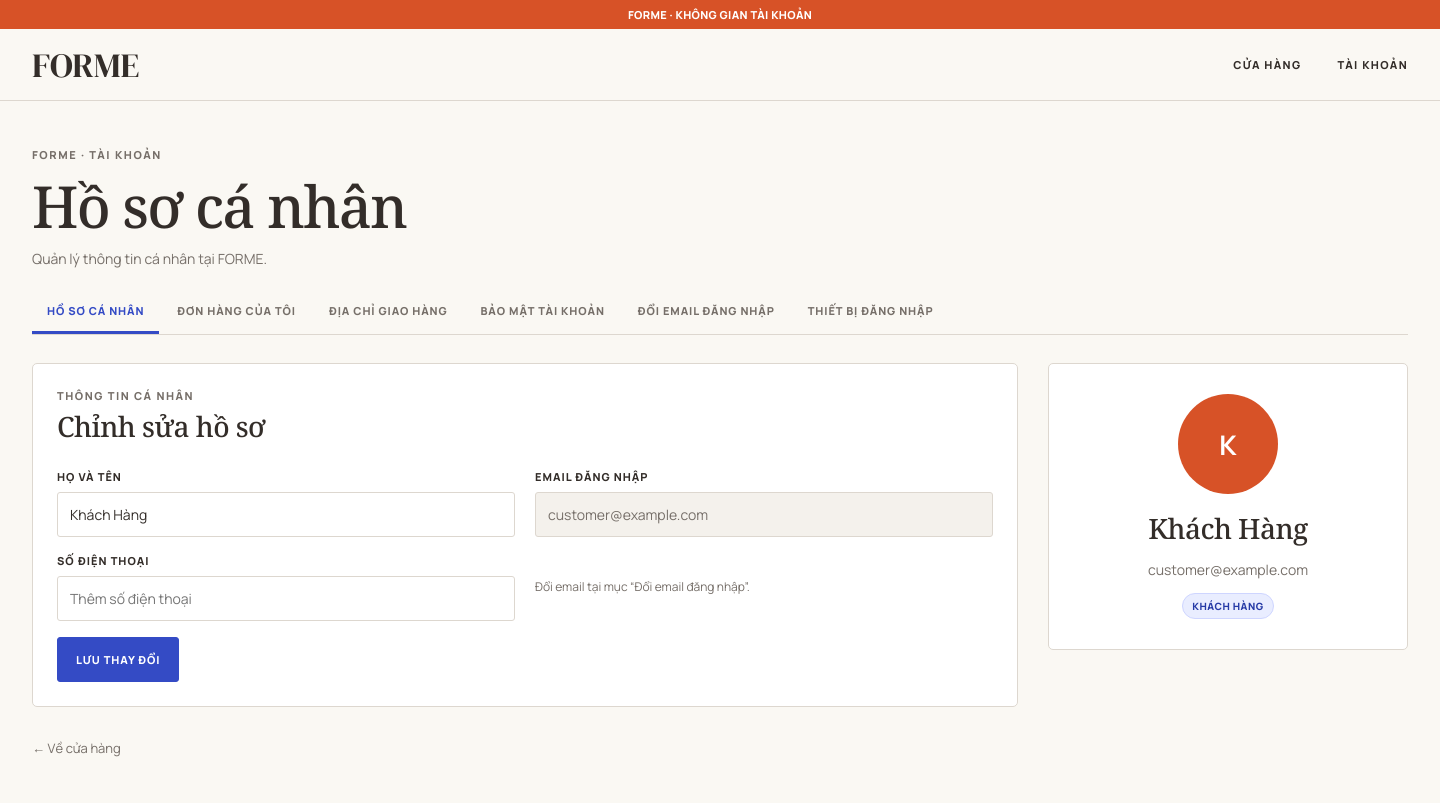
Test case: updates profile fields while keeping the login email read-only
The width and height of the screenshot is (1440, 803).
Check: the field showing "customer@example.com" is disabled, box [535,492,993,537]
Replace the text in the field labelled "HỌ VÀ TÊN" with "Tên mới": (286, 514) [57,492,515,537]
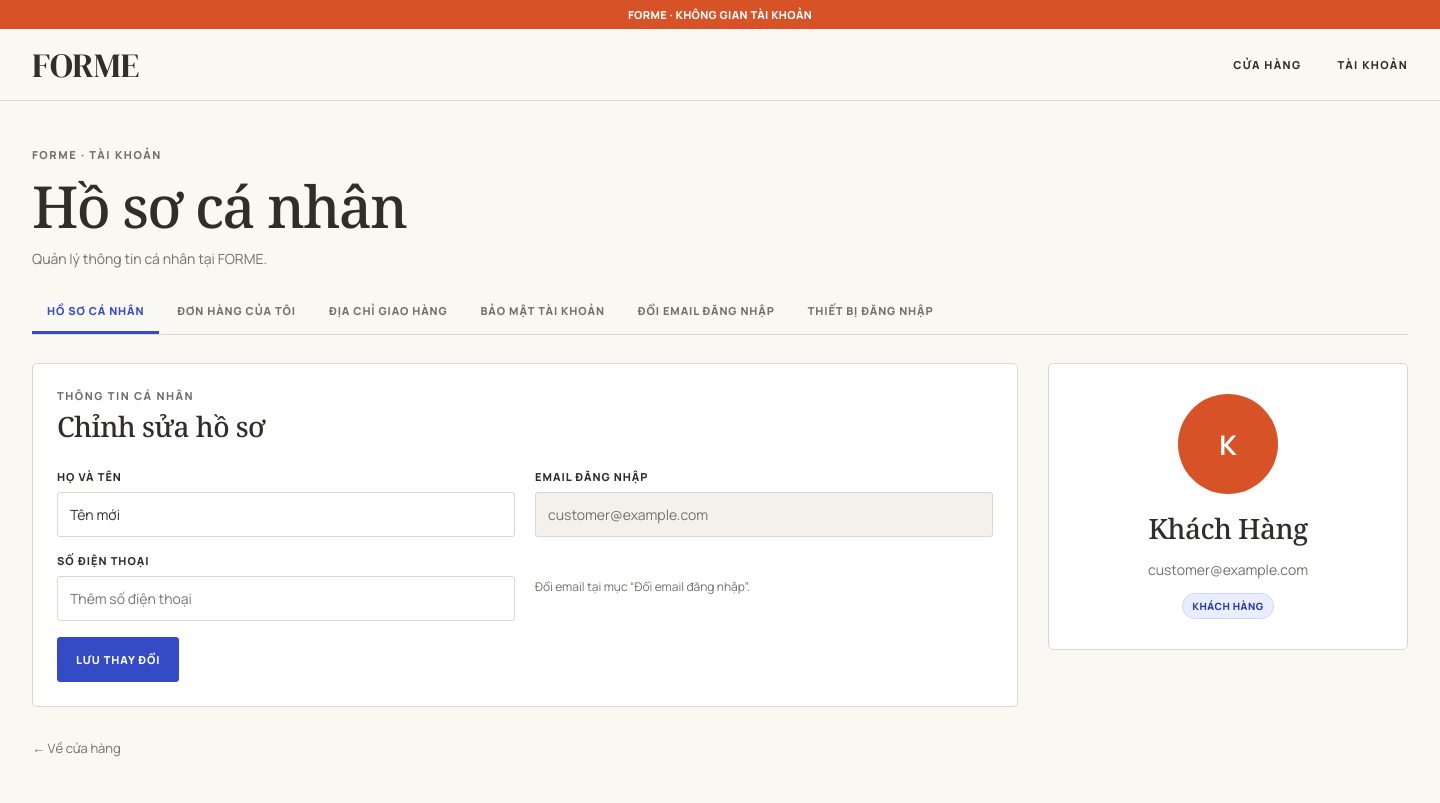
In the field labelled "SỐ ĐIỆN THOẠI": (286, 598) [57,576,515,621], type "0909000000"
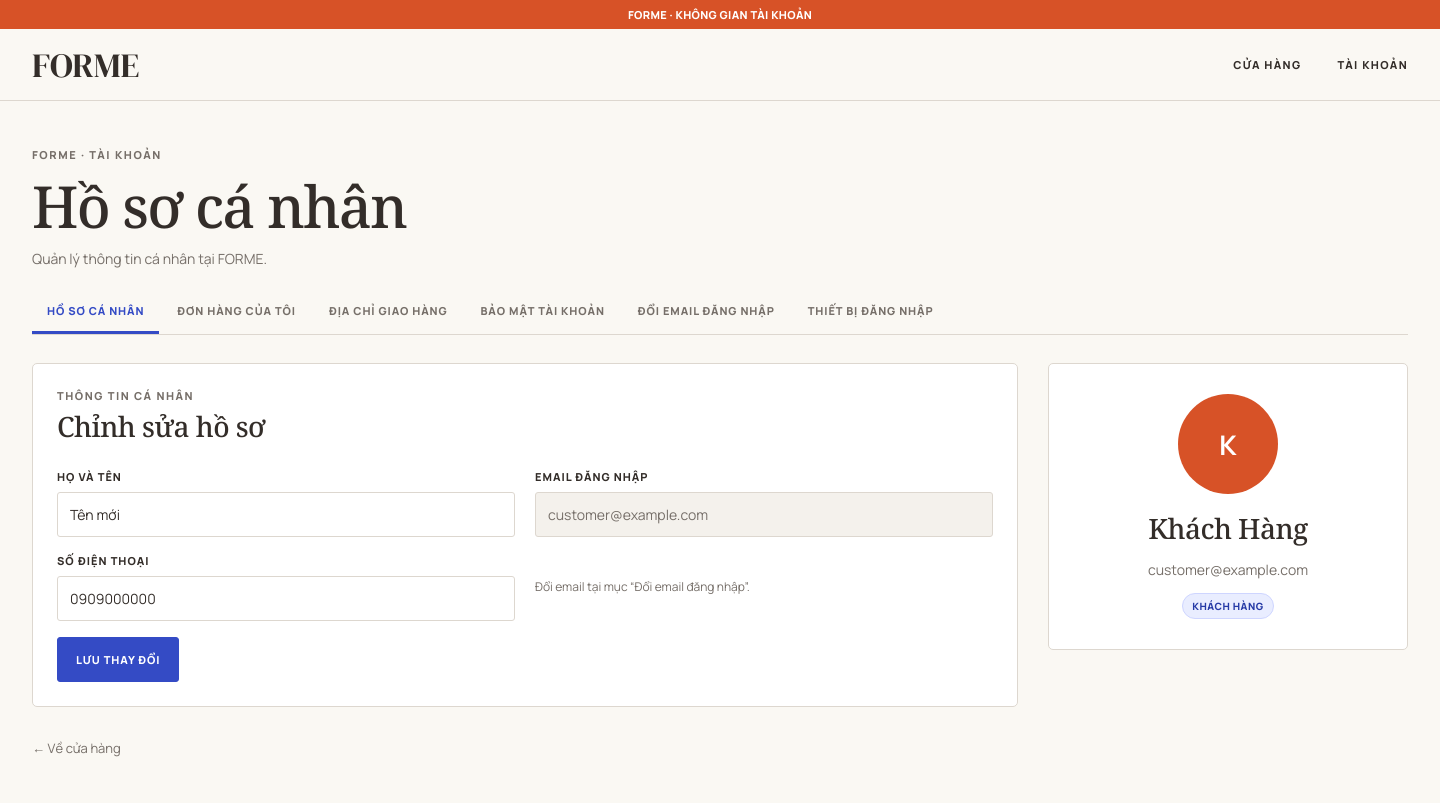
Click the button "Lưu thay đổi": (118, 659) [57,637,180,682]
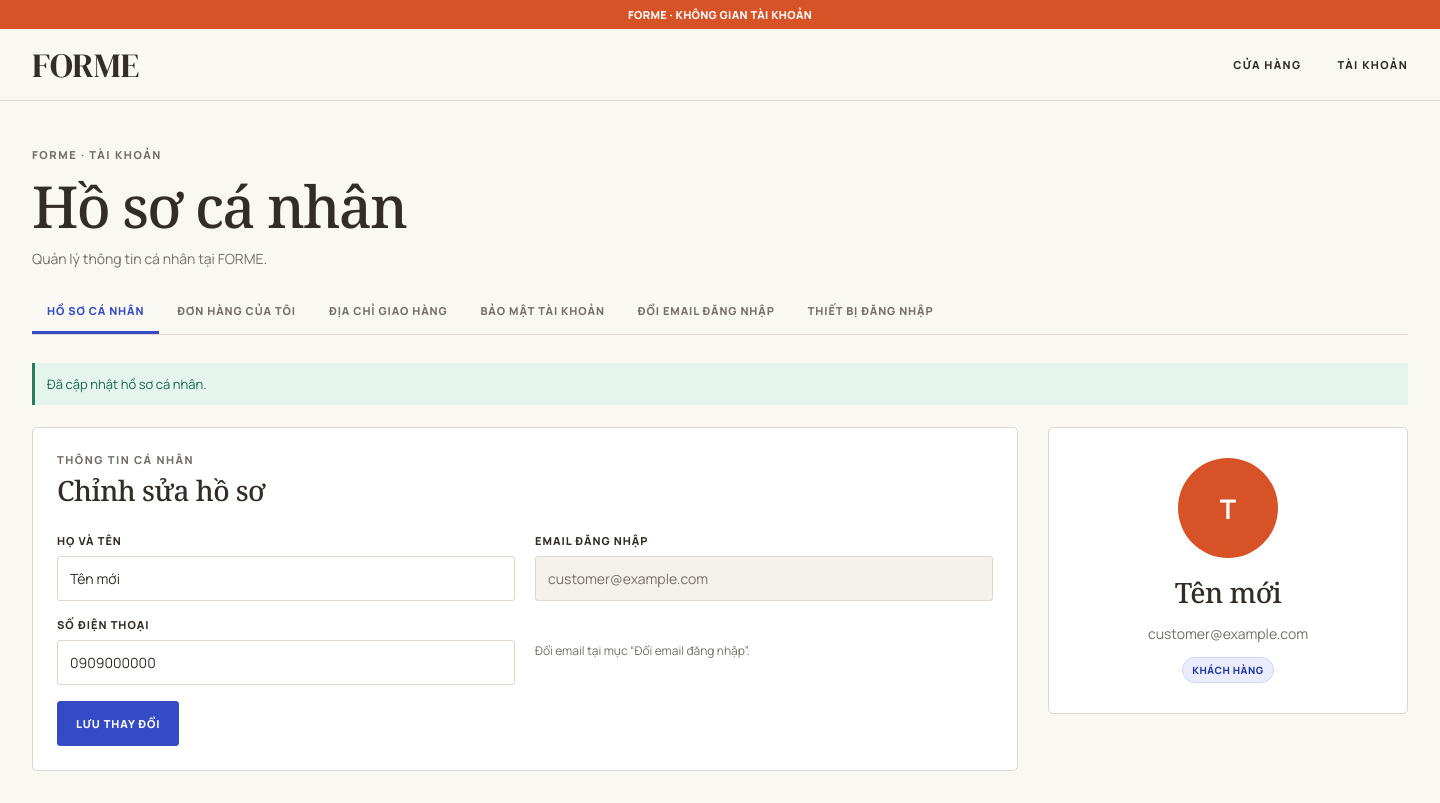
Check: the message reads "Đã cập nhật hồ sơ cá nhân.", box [47,375,206,393]
